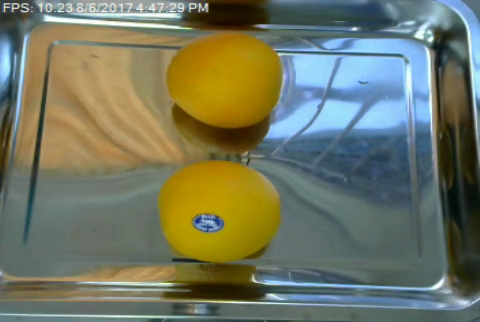Orange: (156, 159, 282, 262), (164, 31, 283, 127)
